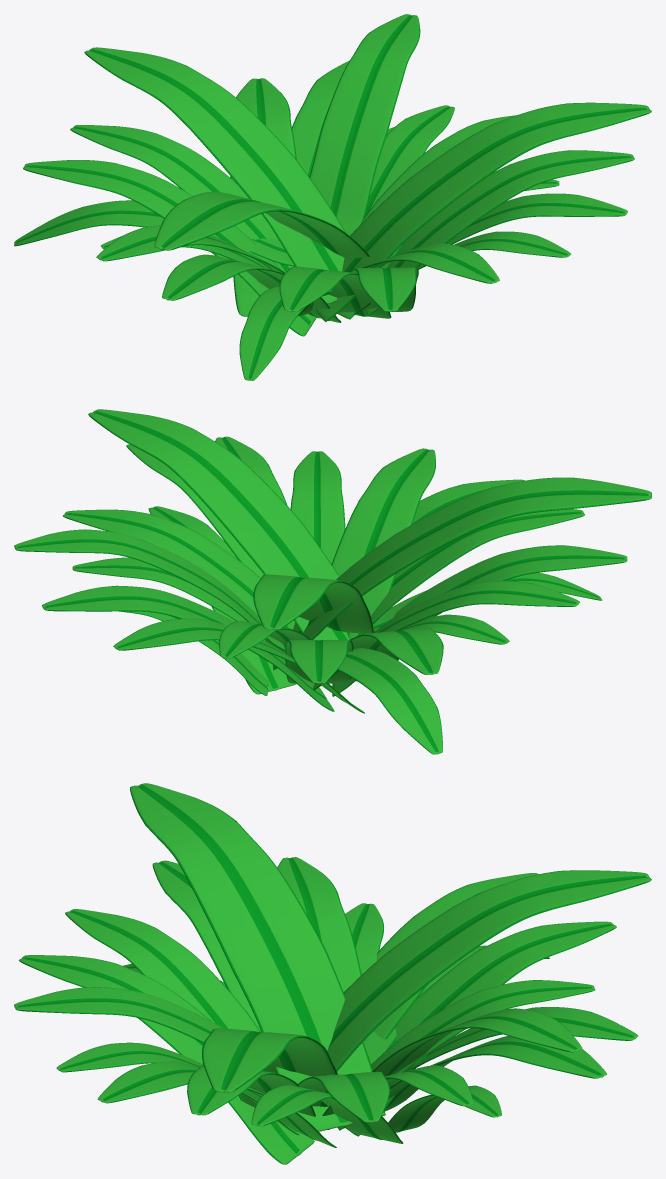
The model's file is grass.fbx.
3 views of the same model, one above another, from view 1: azimuth 30°, elevation 25°; view 2: azimuth 150°, elevation 25°; view 3: azimuth 270°, elevation 25° (orthographic). The views are drawn at different scales.
Visible parts, largest first — view 1: Grass Brush; view 2: Grass Brush; view 3: Grass Brush.
Part boxes in pixels (x1=…): Grass Brush: x1=14, y1=14, x2=651, y2=380; Grass Brush: x1=14, y1=409, x2=651, y2=754; Grass Brush: x1=14, y1=783, x2=651, y2=1164.
Bounding box in the file's own units: 3322 × 1151 × 3081.
